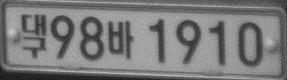0: (236, 21, 264, 68)
1: (206, 20, 234, 66), (147, 18, 173, 64)
8: (78, 15, 105, 62)
9: (48, 14, 75, 59), (175, 19, 201, 64)
대구_V: (20, 13, 47, 58)
바: (107, 19, 135, 60)
